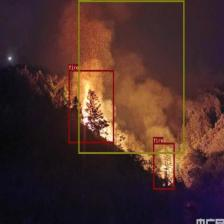fire: (68, 69, 114, 143), (152, 143, 174, 189)
smoke: (77, 0, 184, 153)
